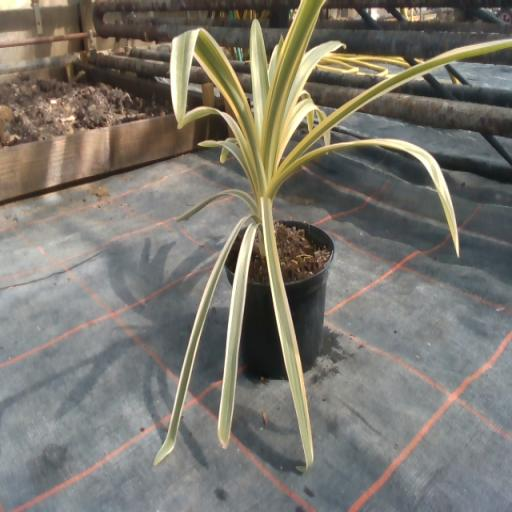Agapanthus-praecox: (282, 38, 511, 170), (154, 215, 254, 465), (268, 139, 458, 255), (262, 198, 313, 470), (262, 0, 326, 189), (170, 29, 258, 149), (218, 224, 256, 447), (178, 106, 260, 191), (286, 42, 344, 117), (176, 189, 258, 221), (199, 139, 253, 187), (280, 99, 326, 154), (250, 20, 268, 141), (269, 37, 282, 82), (220, 148, 229, 162), (324, 129, 330, 145)
